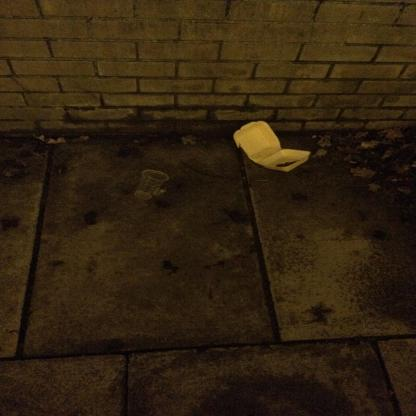Disposable plastic cup: (135, 170, 169, 199)
Foam food container: (233, 121, 311, 172)
